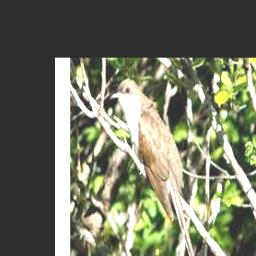Cuckoo: (110, 78, 202, 256)
